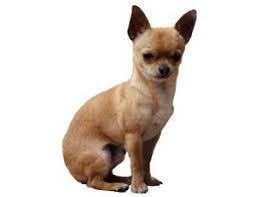chihuahua: (56, 3, 201, 197)
